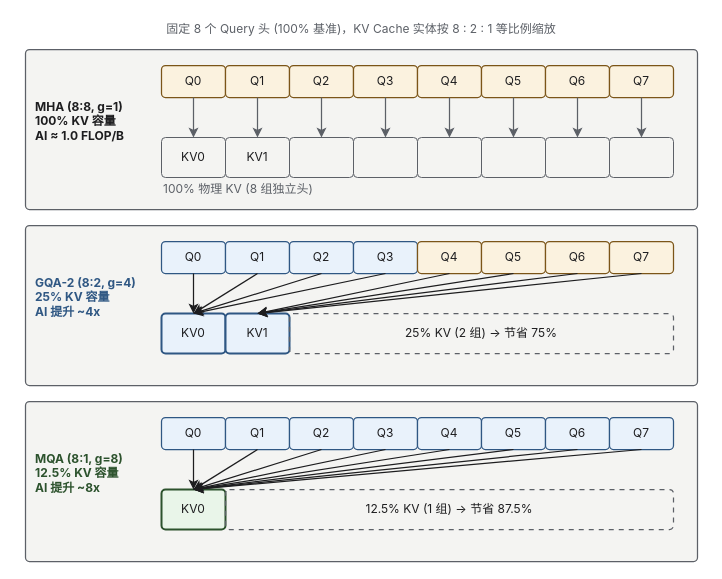
This 722x579 diagram has some shape labels left out. Each missing label, with the centre of its shape:
KV2: (321,157)
KV3: (385,157)
KV4: (449,157)
KV5: (513,157)
KV6: (577,157)
KV7: (641,157)
